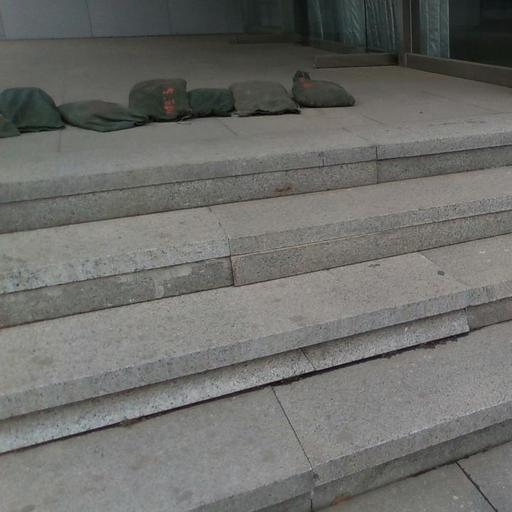stairs: (0, 127, 511, 511)
